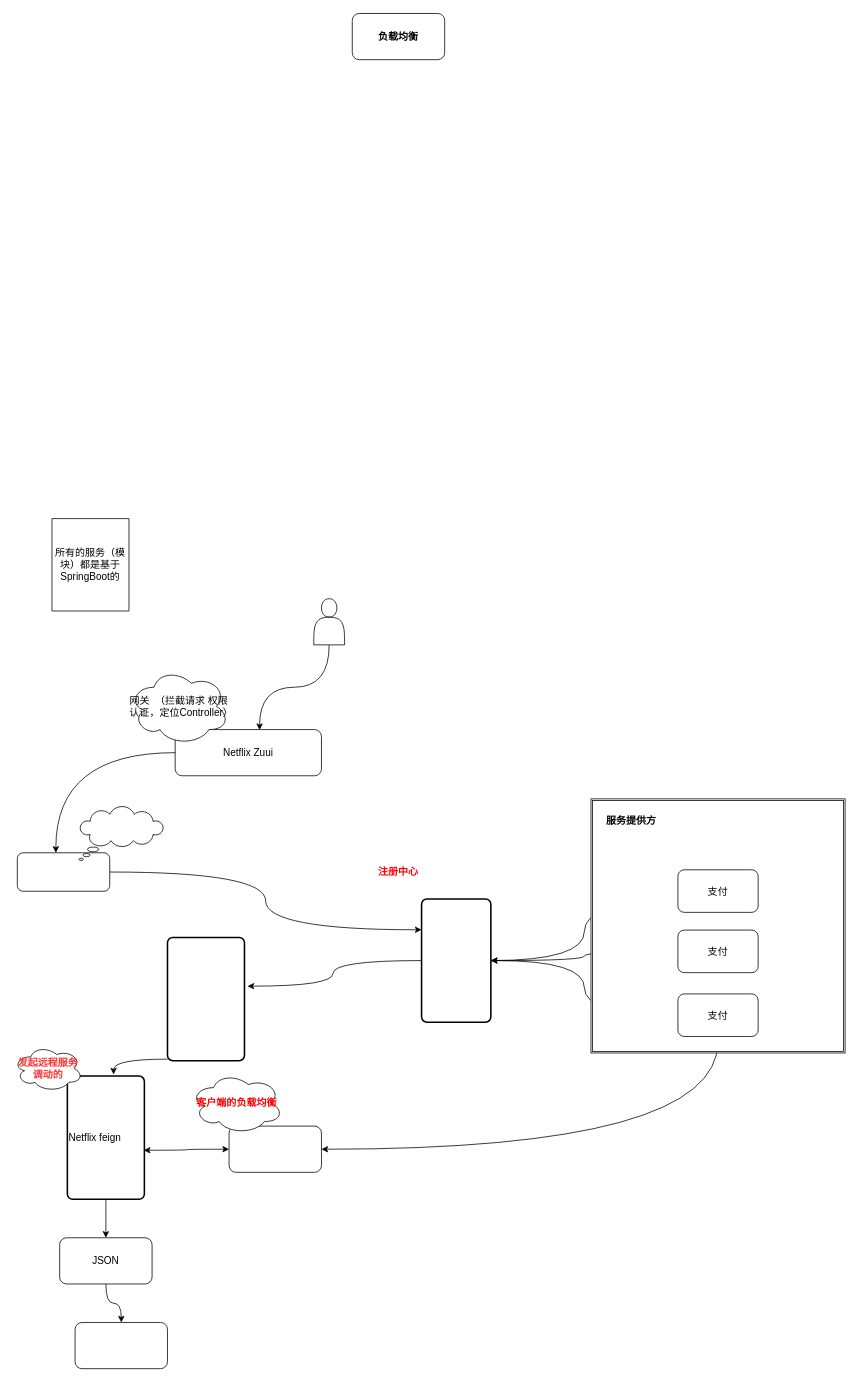
This 859x1382 diagram has some shape labels left out. Each missing label, with the box of its shape:
Netflix:Eureka: (420, 898, 491, 1023)
Ribbon: (228, 1125, 321, 1172)
Thymeleaf: (74, 1322, 167, 1369)
前端Controller: (17, 852, 110, 891)
服务列表: (166, 936, 245, 1061)
获取服务列表: (78, 806, 164, 860)
